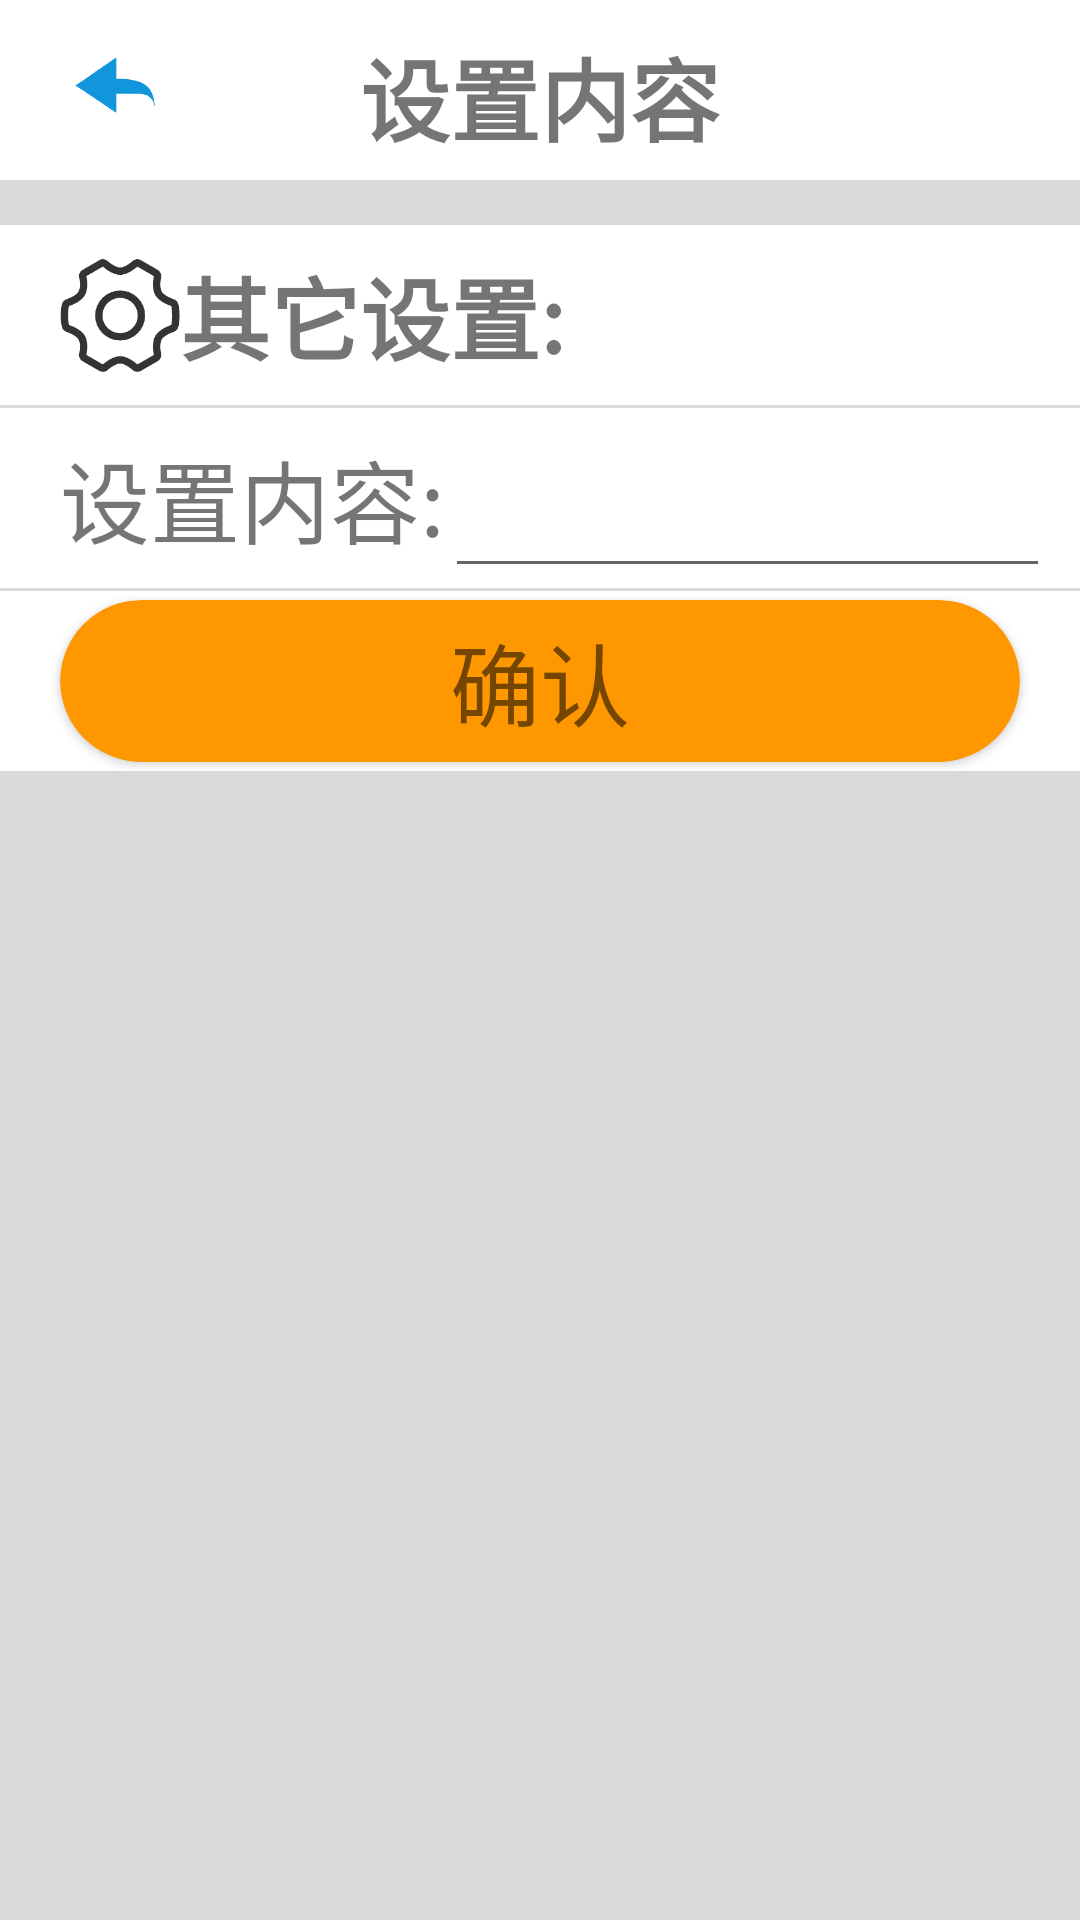

Icons on this 1080*1920 Android screen, each with the point to tap as (x=x, y=y):
back: (x=115, y=85)
setting: (x=120, y=315)
